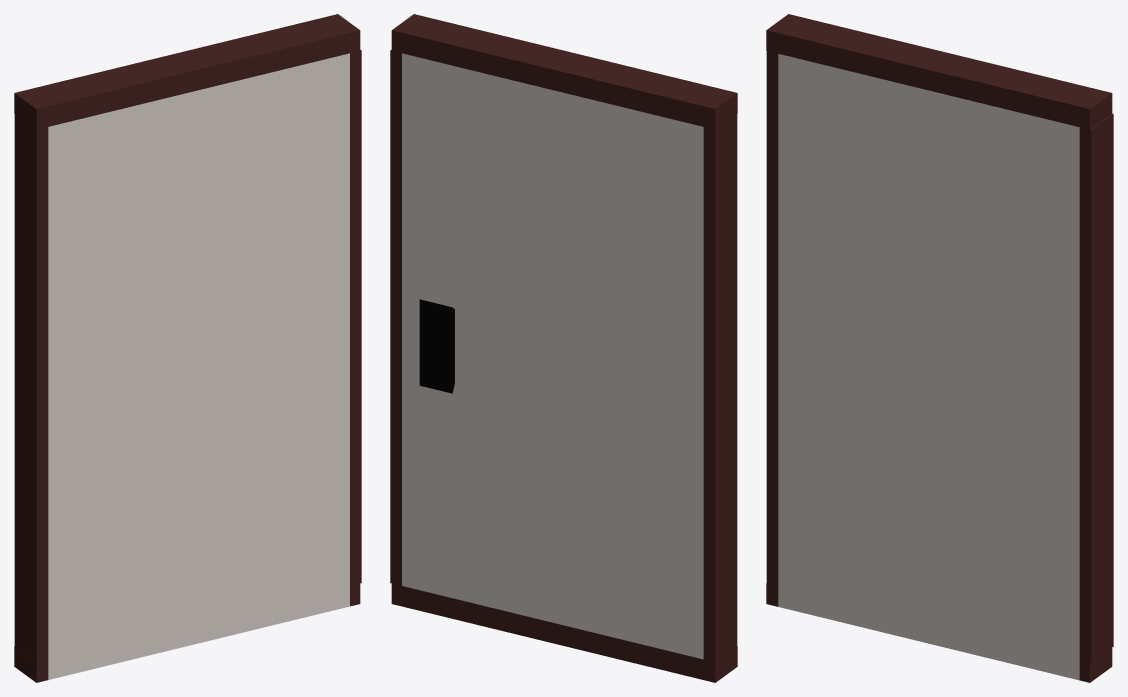
File: Puerta.fbx
The picture shows the model from 3 angles, left to right: view 1: azimuth 30°, elevation 25°; view 2: azimuth 150°, elevation 25°; view 3: azimuth 330°, elevation 25°; orthographic projection.
Visible parts, largest first — view 1: Puerta; view 2: Puerta; view 3: Puerta.
Boxes of the visible parts, x1,y1,x2,y2 form: Puerta: (14,14,361,682); Puerta: (390,14,737,682); Puerta: (766,14,1113,682).
Bounding box in the file's own units: 1071 × 1807 × 154.
